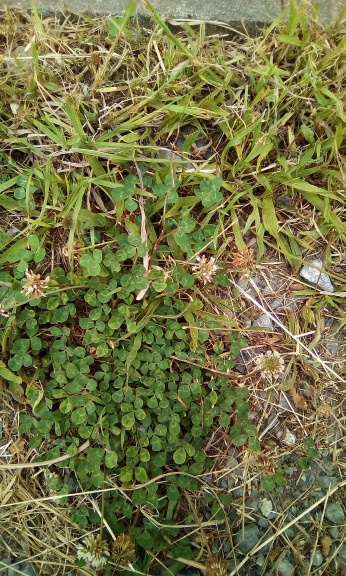4leaf: (193, 176, 224, 207)
